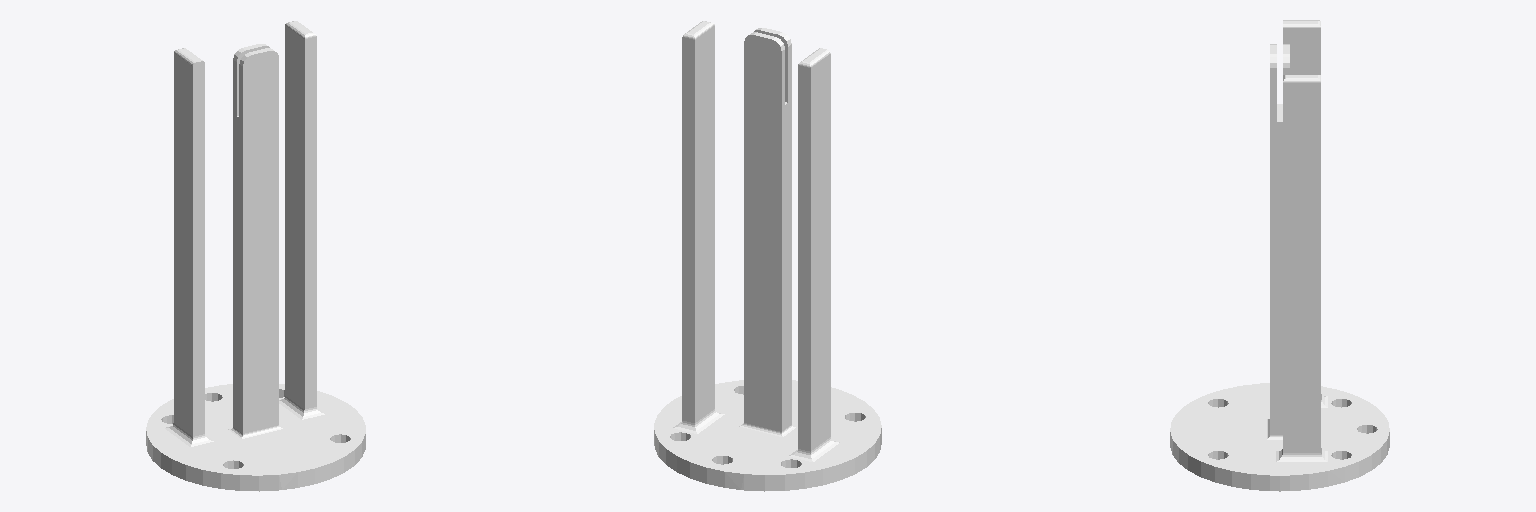
URDF robot description (magnetometer_array):
<?xml version="1.0" encoding="utf-8"?>
<!-- This URDF was automatically created by SolidWorks to URDF Exporter! Originally created by Stephen Brawner (brawner@gmail.com) 
     Commit Version: 1.6.0-4-g7f85cfe  Build Version: 1.6.7995.38578
     For more information, please see http://wiki.ros.org/sw_urdf_exporter -->
<robot
  name="magnetometer_array">
  <link
    name="magnetometer_base_link">
    <inertial>
      <origin
        xyz="-2.07166456524356E-07 0.0021604655211999 0.0362476651991424"
        rpy="0 0 0" />
      <mass
        value="0.0332054242847689" />
      <inertia
        ixx="5.63055976294825E-05"
        ixy="5.92198383575024E-12"
        ixz="6.68013595190353E-10"
        iyy="5.96936991935191E-05"
        iyz="-2.03045562894017E-06"
        izz="1.14540668478137E-05" />
    </inertial>
    <visual>
      <origin
        xyz="0 0 0"
        rpy="0 0 0" />
      <geometry>
        <mesh
          filename="package://magnetometer_array/meshes/magnetometer_base_link.STL" />
      </geometry>
      <material
        name="">
        <color
          rgba="1 1 1 1" />
      </material>
    </visual>
    <collision>
      <origin
        xyz="0 0 0"
        rpy="0 0 0" />
      <geometry>
        <mesh
          filename="package://magnetometer_array/meshes/magnetometer_base_link.STL" />
      </geometry>
    </collision>
  </link>
  <link
    name="magnetometer_tcp_link">
    <inertial>
      <origin
        xyz="-1.2355E-05 0.0019209 -0.1507"
        rpy="0 0 0" />
      <mass
        value="0.035468" />
      <inertia
        ixx="7.6653E-05"
        ixy="1.9231E-11"
        ixz="3.8778E-08"
        iyy="8.0393E-05"
        iyz="-2.0188E-06"
        izz="1.1822E-05" />
    </inertial>
    <visual>
      <origin
        xyz="0 0 0"
        rpy="0 0 0" />
      <geometry>
        <mesh
          filename="package://magnetometer_array/meshes/magnetometer_tcp_link.STL" />
      </geometry>
      <material
        name="">
        <color
          rgba="1 1 1 1" />
      </material>
    </visual>
    <collision>
      <origin
        xyz="0 0 0"
        rpy="0 0 0" />
      <geometry>
        <mesh
          filename="package://magnetometer_array/meshes/magnetometer_tcp_link.STL" />
      </geometry>
    </collision>
  </link>
  <joint
    name="magnetometer"
    type="fixed">
    <origin
      xyz="0 0.00023753 0.19309"
      rpy="0 0 0" />
    <parent
      link="magnetometer_base_link" />
    <child
      link="magnetometer_tcp_link" />
    <axis
      xyz="0 0 0" />
  </joint>
</robot>

--- Facts derived from the render (not from the file) ---
Views: 3 orthographic renders of the robot side by side, from view 1: azimuth 30°, elevation 25°; view 2: azimuth 150°, elevation 25°; view 3: azimuth 270°, elevation 25°.
Robot: magnetometer_array — 2 links, 1 joints (1 fixed); root link magnetometer_base_link; default pose: all joints at 0.
Visible links, largest first — view 1: magnetometer_base_link; view 2: magnetometer_base_link; view 3: magnetometer_base_link.
Boxes of the visible links, bbox=[...] form: magnetometer_base_link: bbox=[146, 21, 365, 491]; magnetometer_base_link: bbox=[654, 21, 881, 491]; magnetometer_base_link: bbox=[1170, 20, 1389, 491].
Size in the robot's own frame: 0.063 by 0.0629 by 0.125 metres.
Meshes: 2 distinct files referenced, 1 mesh visuals loaded (1 binary STL); not drawn: 1 (file found but could not be loaded).
